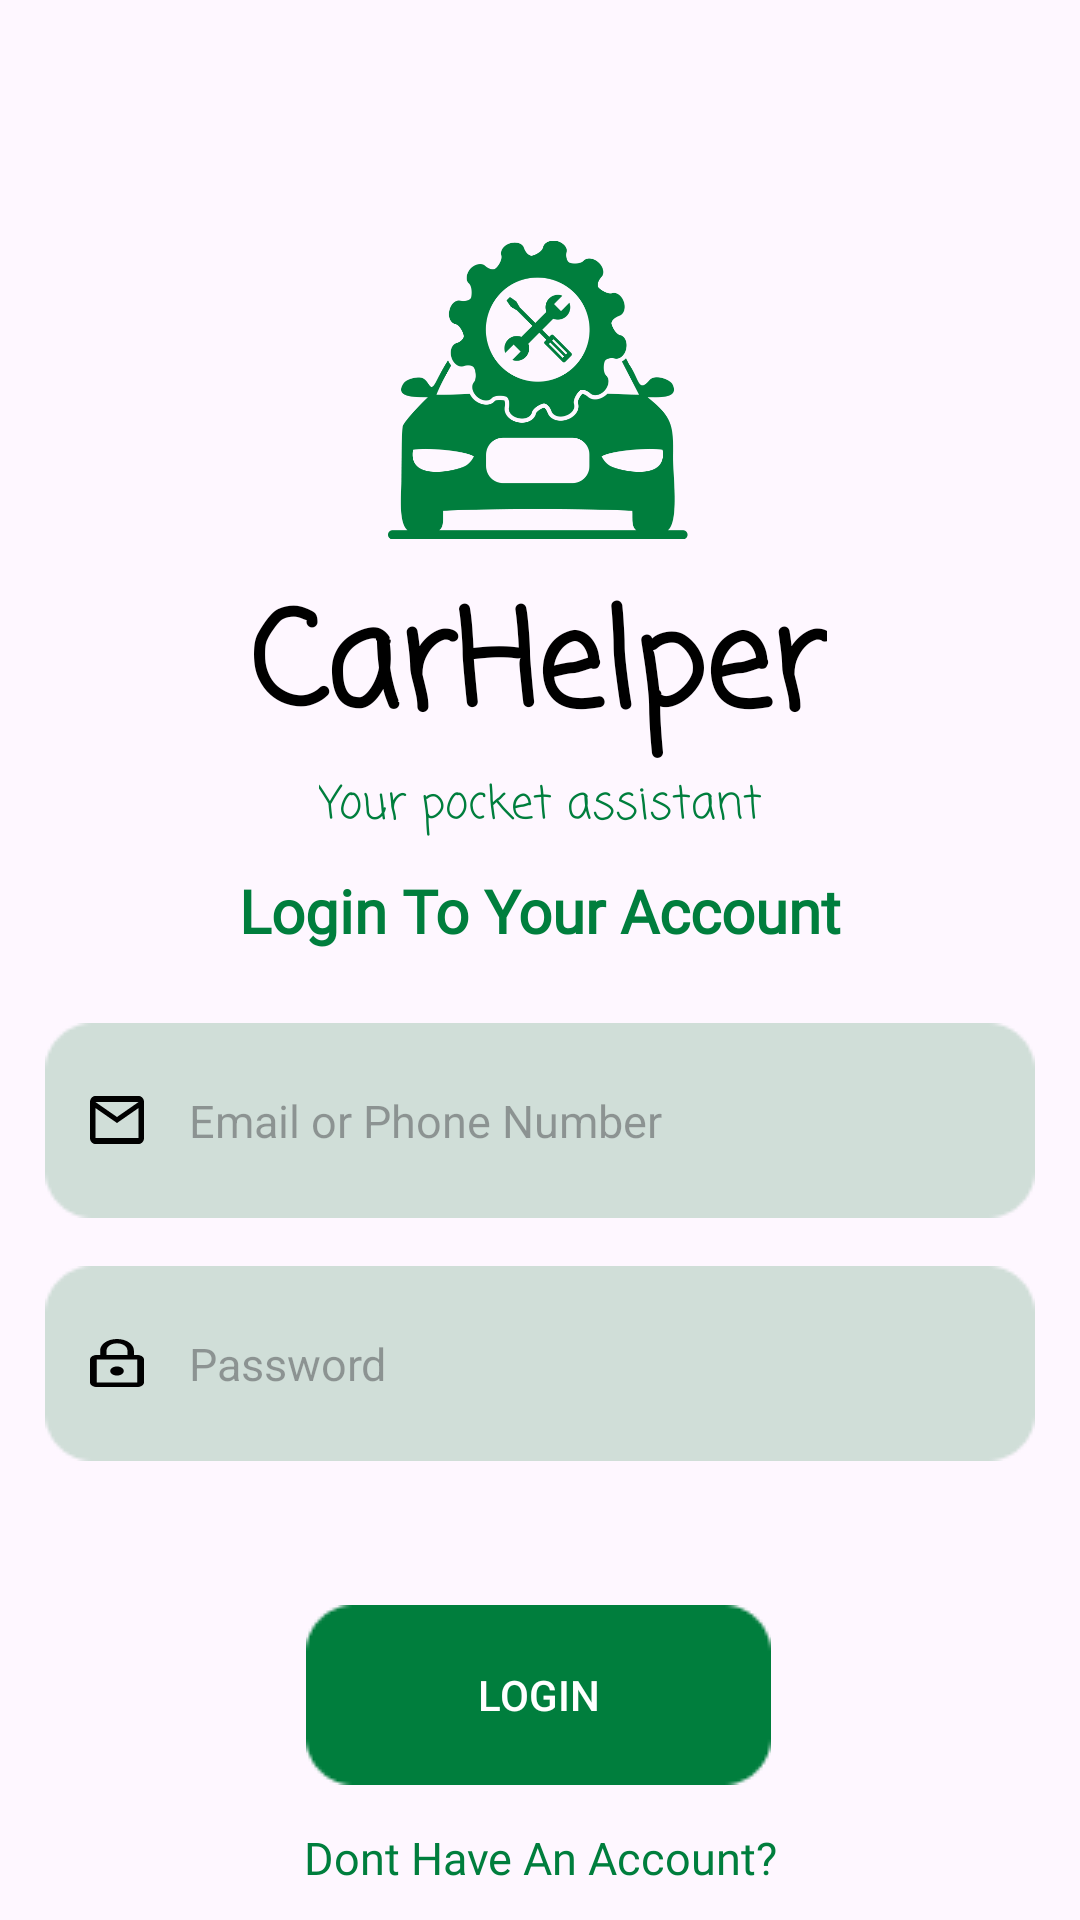

Where icons sit on this 1080px x 1920px app screen, as {"x1": x1, "y1": y1, "x2": x2, "y2": y2}:
car: {"x1": 388, "y1": 241, "x2": 688, "y2": 539}
